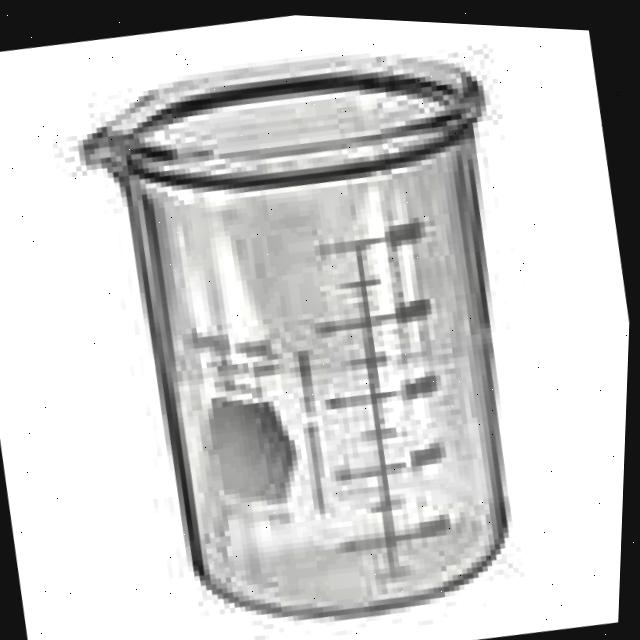glass: (86, 53, 509, 619)
